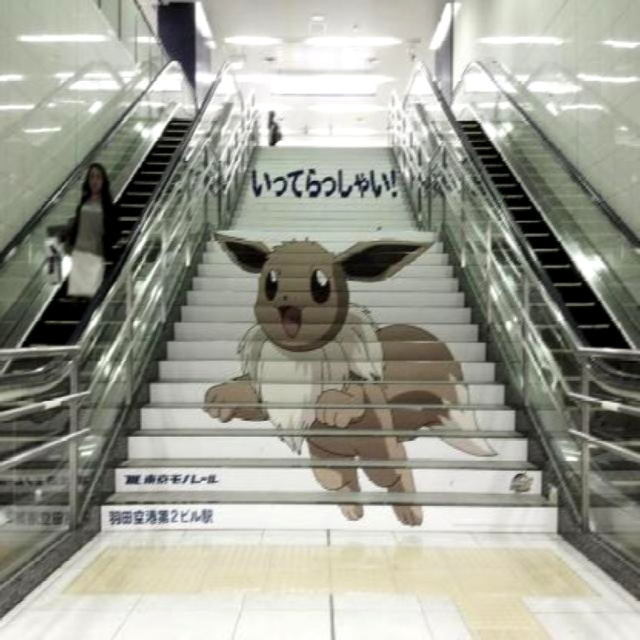stair: (100, 141, 562, 534), (0, 115, 195, 370)
